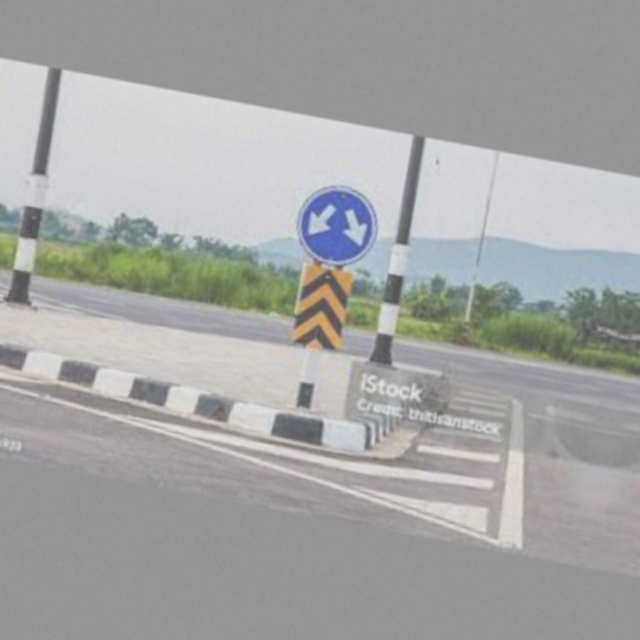Pass_Either_Side: (289, 175, 387, 273)
